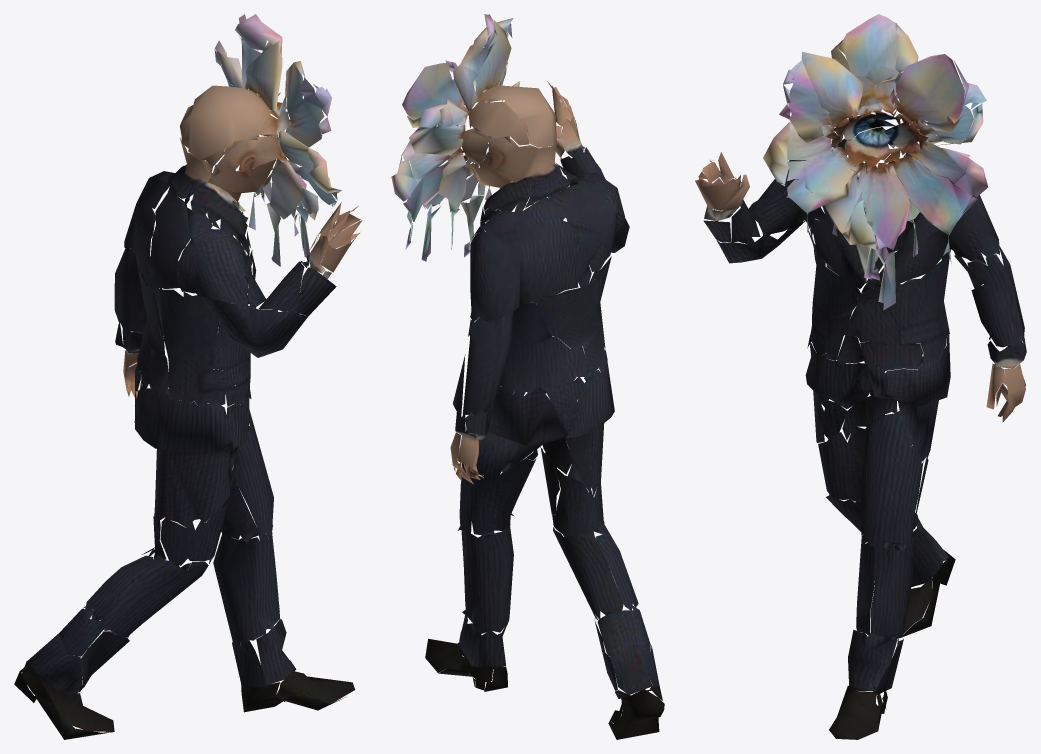
Rendered from cast_wiseguy.glb.
3 views of the same model, side by side, from view 1: azimuth 30°, elevation 25°; view 2: azimuth 150°, elevation 25°; view 3: azimuth 270°, elevation 25° (orthographic). The views are drawn at different scales.
Parts seen in each view (by area): view 1: tripo_node_096ba9d0-4f72-4ce4-bbae-e90f7e3d7e71; view 2: tripo_node_096ba9d0-4f72-4ce4-bbae-e90f7e3d7e71; view 3: tripo_node_096ba9d0-4f72-4ce4-bbae-e90f7e3d7e71.
Boxes of the visible parts, box(x1,y1,x2,y2) form: tripo_node_096ba9d0-4f72-4ce4-bbae-e90f7e3d7e71: box(14, 14, 362, 739); tripo_node_096ba9d0-4f72-4ce4-bbae-e90f7e3d7e71: box(391, 14, 664, 739); tripo_node_096ba9d0-4f72-4ce4-bbae-e90f7e3d7e71: box(695, 14, 1026, 739).
Size of the model in its own units: 0.4427 by 0.9993 by 0.4331.
Materials: 1 (1 with a texture image).
